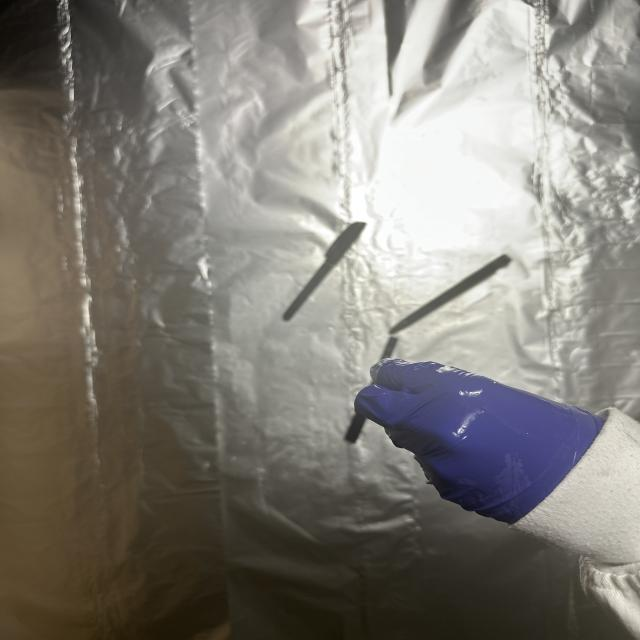gloves_contaminated: (355, 359, 604, 524)
